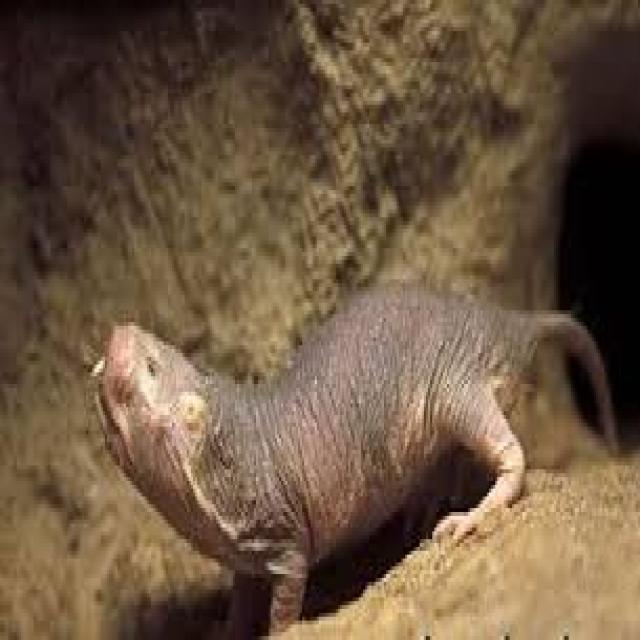rat: (88, 272, 619, 636)
